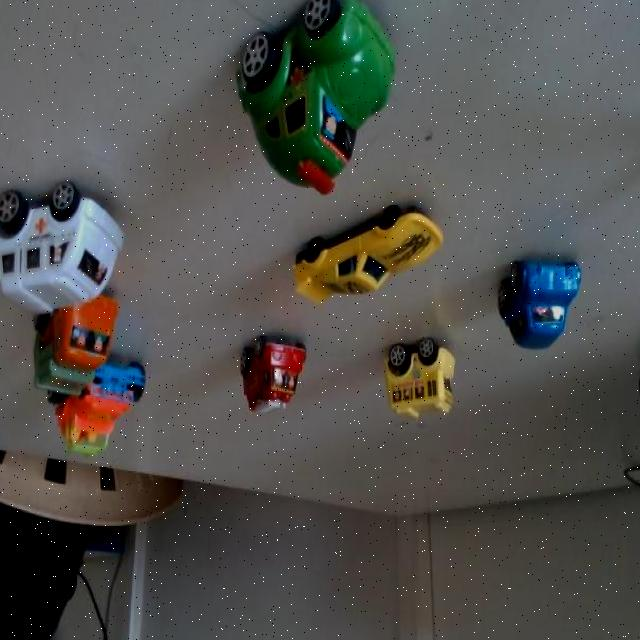car: (244, 0, 404, 188), (0, 156, 140, 335), (302, 191, 437, 315), (375, 322, 462, 423), (72, 357, 154, 461), (506, 251, 583, 353), (43, 288, 110, 404), (232, 321, 306, 426)
